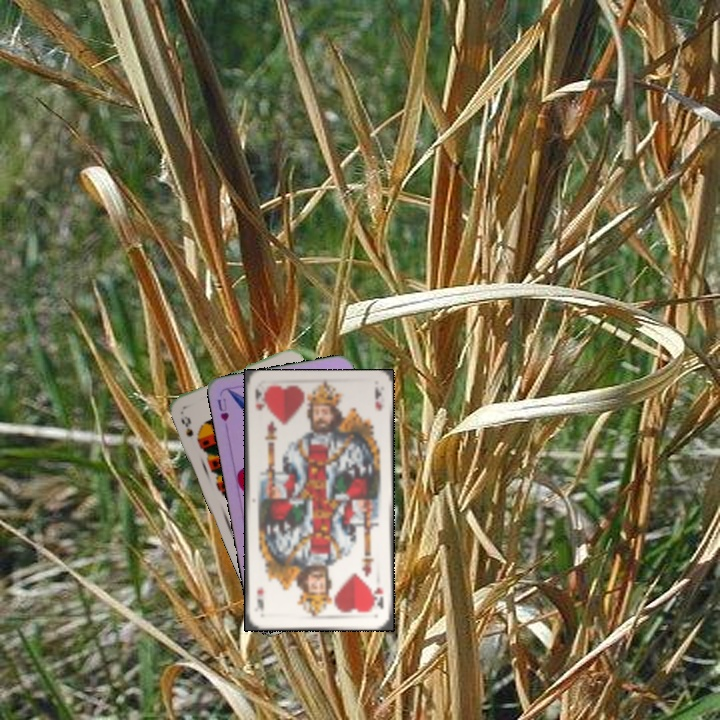HK: (369, 584, 387, 614), (250, 385, 267, 413)
HU: (213, 394, 231, 424)
S9: (177, 412, 203, 445)
